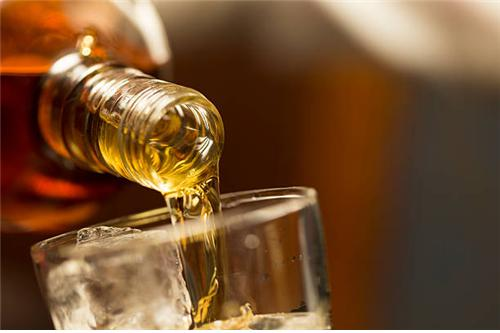alcohol: (0, 0, 223, 238), (29, 189, 332, 333)
